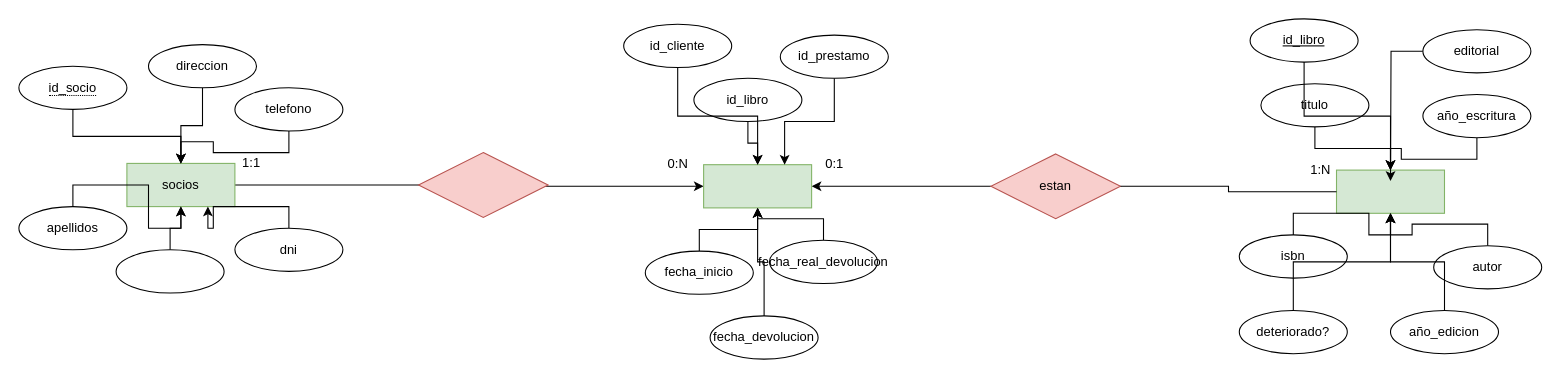
The diagram is 1561 pixels wide and 378 high, and some of its shapes have lost their labels. The shapes that lost their labels are listed below. From the top down, each one's centre as x and y in pixels, then its label:
the point at 482,184: tienen
the point at 757,186: prestamo
the point at 1389,191: libro
the point at 169,271: nombre
